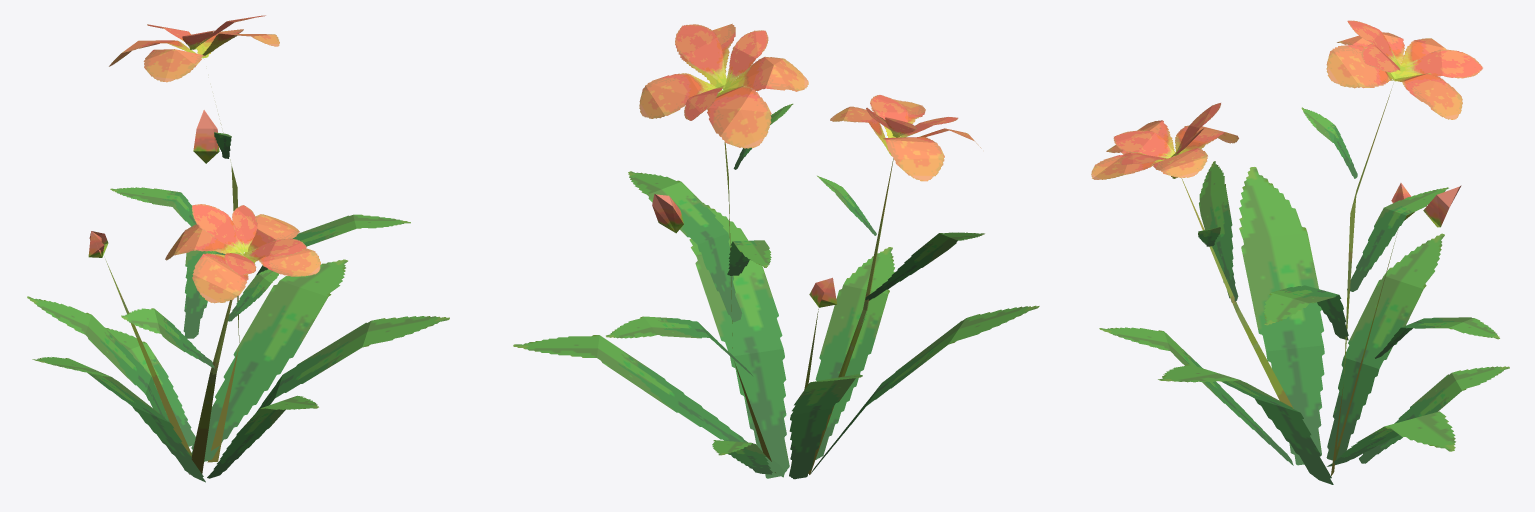
Rendered from gi-Flower_Kikka_01.glb.
3 views of the same model, side by side, from view 1: azimuth 30°, elevation 25°; view 2: azimuth 150°, elevation 25°; view 3: azimuth 270°, elevation 25° (orthographic). The views are drawn at different scales.
Parts seen in each view (by area): view 1: gi-Flower_Kikka_01; view 2: gi-Flower_Kikka_01; view 3: gi-Flower_Kikka_01.
Part boxes in pixels (box(x1,y1,x2,y2)): gi-Flower_Kikka_01: box(27, 15, 449, 482); gi-Flower_Kikka_01: box(513, 23, 1039, 479); gi-Flower_Kikka_01: box(1091, 20, 1509, 484).
Bounding box in the file's own units: 0.5238 × 0.5084 × 0.4263.
1 material, 1 textured.
